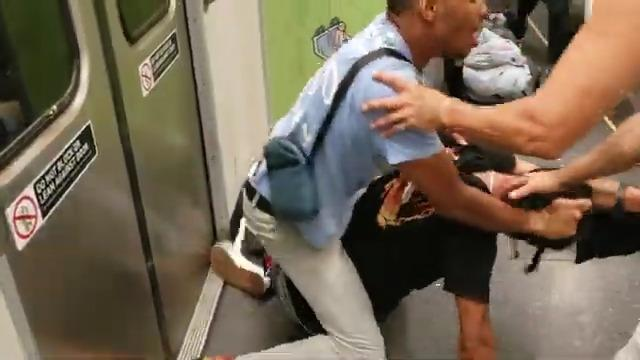violence: (204, 0, 640, 360)
